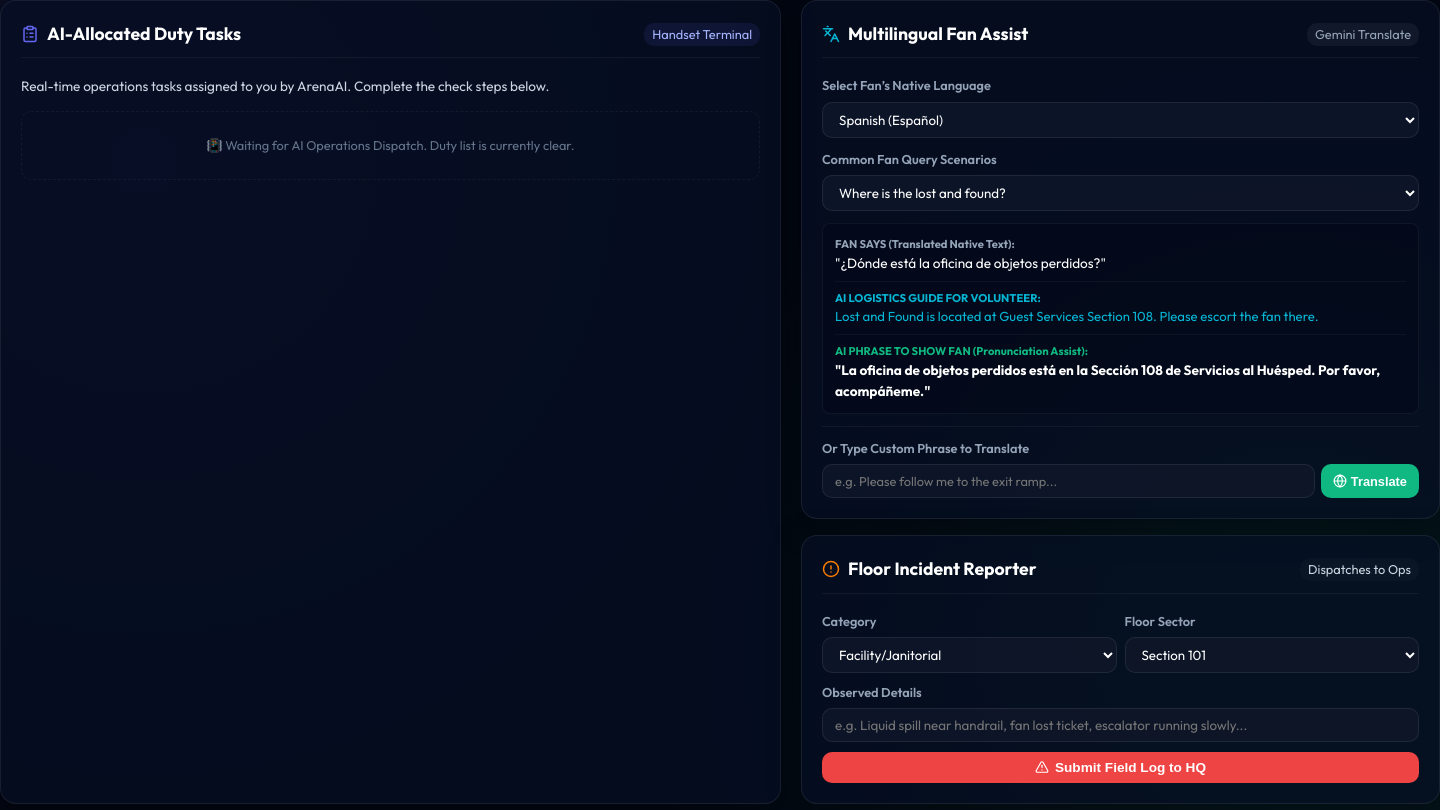
Test: VolunteerHub Component Tests › handles translation presets correctly and updates guided response panels
Check: the text "FAN SAYS (Translated Native Text):" is shown, box [835, 237, 1015, 251]
Check: the text "\"¿Dónde está la oficina de objetos perdidos?\"" is shown, box [835, 254, 1106, 272]
Switch language to French
Select "French (Français)" in the dropdown labelled "Select Fan’s Native Language" at (1120, 120), box [822, 102, 1419, 138]
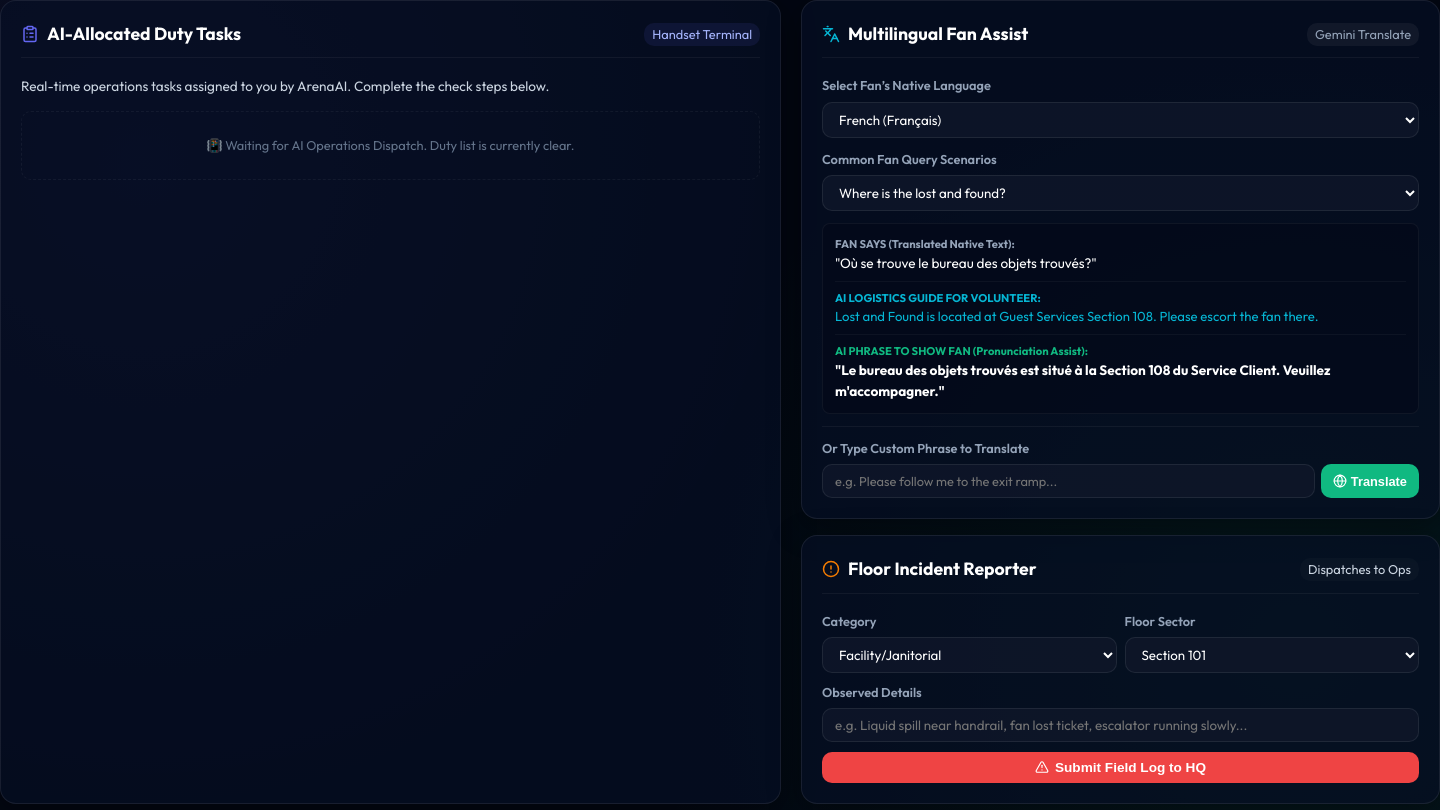
Check: the text "\"Où se trouve le bureau des objets trouvés?\"" is shown, box [835, 254, 1097, 272]
